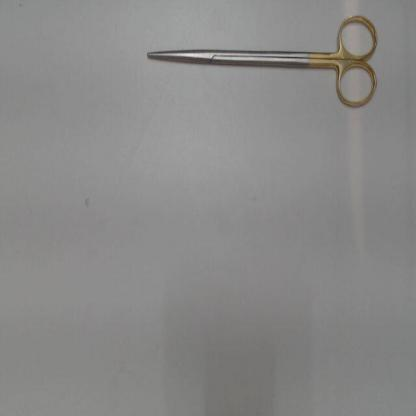7 Metzenbaum Scissors: (146, 11, 381, 113)
